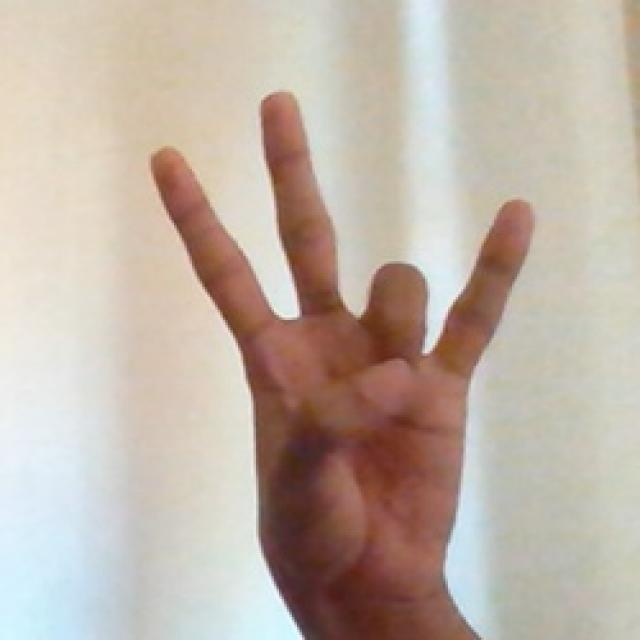Numeric-7: (142, 67, 541, 607)
